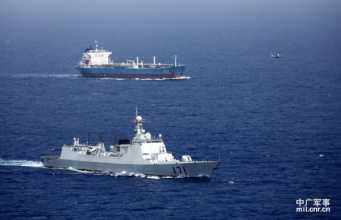Cargoship: (72, 34, 189, 76)
warship: (39, 112, 225, 176)
